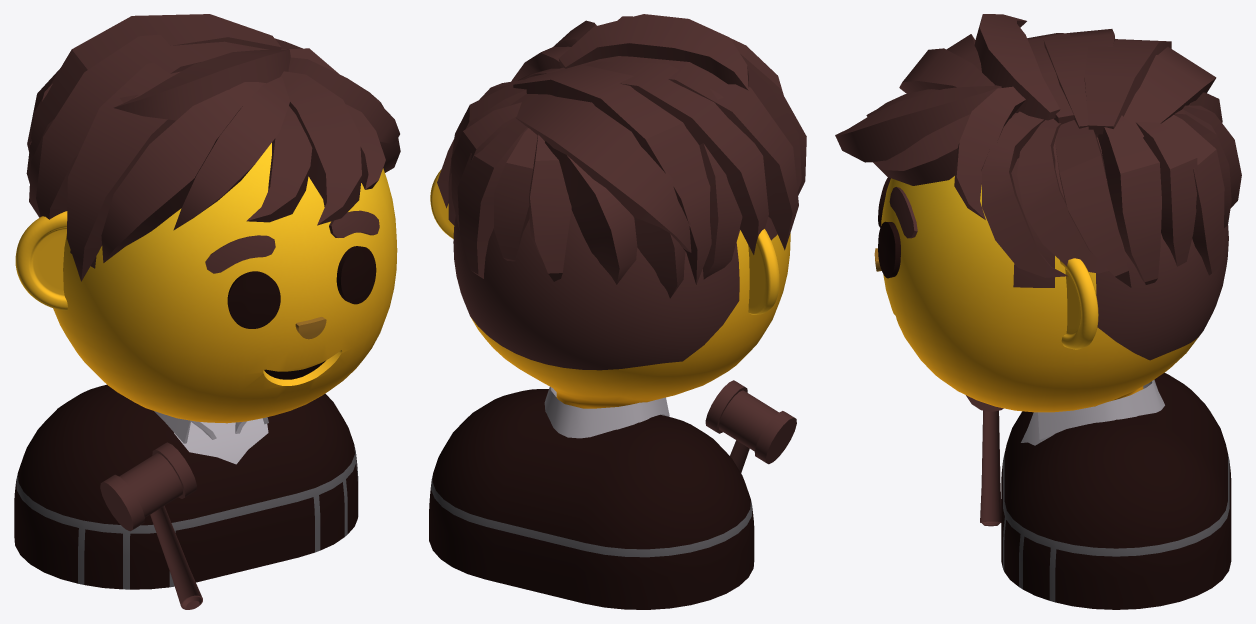
Rendered from Judge.gltf.
The picture shows the model from 3 angles, left to right: view 1: azimuth 30°, elevation 25°; view 2: azimuth 150°, elevation 25°; view 3: azimuth 270°, elevation 25°; orthographic projection. The views are drawn at different scales.
Visible parts, largest first — view 1: Roundcube.085, Sphere.043, Cube.1075, Cube.1071, Cube.1068, Cube.1067, Cube.1070, Cylinder.077, Cube.1076, Cube.1065, Circle.577, Cylinder.076 (+7 smaller); view 2: Sphere.043, Roundcube.085, Cube.1063, Cube.1067, Cube.1068, Cube.1065, Cube.1071, Cube.1061, Cube.1057, Cylinder.077, Cube.1059, Cube.1056 (+10 smaller); view 3: Roundcube.085, Sphere.043, Cube.1060, Cube.1077, Cube.1070, Cube.1074, Cube.1062, Cube.1065, Cube.1067, Cube.1058, Cube.1063, Cube.1057 (+13 smaller).
Part boxes in pixels (x1,y1,x2,y2): Roundcube.085: (53,143,397,423); Sphere.043: (14,384,358,589); Cube.1075: (101,82,272,262); Cube.1071: (67,62,180,281); Cube.1068: (36,34,268,219); Cube.1067: (26,14,281,183); Cube.1070: (280,71,361,225); Cylinder.077: (100,442,202,609); Cube.1076: (173,76,289,230); Cube.1065: (113,49,290,120); Circle.577: (227,246,376,328); Cylinder.076: (15,211,67,310); Sphere.043: (429,389,754,609); Roundcube.085: (453,210,790,408); Cube.1063: (510,94,691,252); Cube.1067: (513,65,711,284); Cube.1068: (584,61,768,254); Cube.1065: (559,14,748,90); Cube.1071: (556,56,798,250); Cube.1061: (545,141,637,284); Cube.1057: (457,118,527,278); Cylinder.077: (705,380,796,472); Cube.1059: (529,134,571,281); Cube.1056: (494,128,537,261); Roundcube.085: (881,113,1228,412); Sphere.043: (1001,372,1231,609); Cube.1060: (1098,115,1161,284); Cube.1077: (1055,120,1131,287); Cube.1070: (835,85,1001,162); Cube.1074: (981,111,1068,277); Cube.1062: (1017,118,1108,273); Cube.1065: (974,14,1060,120); Cube.1067: (1084,39,1171,134); Cube.1058: (1135,121,1197,266); Cube.1063: (1124,47,1216,137); Cube.1057: (1161,115,1224,275).
Bounding box in the file's own units: 1.76 × 2.46 × 1.77.
Materials: 6 (1 with a texture image).
